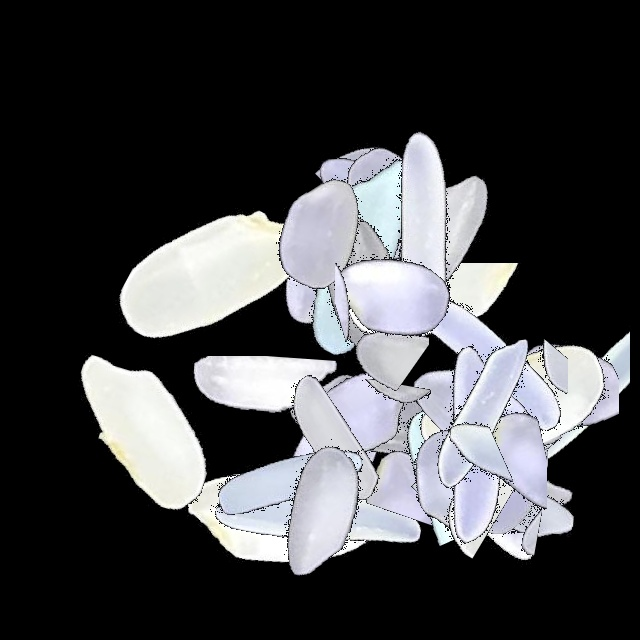Broken: (352, 328, 523, 578), (450, 273, 619, 523), (206, 356, 456, 525), (472, 238, 630, 488), (390, 419, 640, 567), (328, 263, 578, 410), (137, 356, 387, 502), (407, 347, 547, 597), (316, 322, 566, 459), (261, 82, 511, 216), (363, 328, 497, 578), (340, 418, 590, 551), (302, 199, 429, 449), (409, 324, 528, 574), (335, 171, 436, 421), (472, 257, 568, 507), (450, 364, 545, 614), (420, 370, 515, 620), (536, 390, 624, 640), (239, 379, 489, 464)
Full: (217, 132, 467, 382), (159, 390, 409, 640), (195, 390, 445, 640), (200, 140, 450, 390), (252, 80, 502, 330), (255, 126, 505, 376), (261, 74, 511, 324), (339, 359, 589, 609), (214, 330, 464, 580), (236, 128, 486, 378), (390, 371, 640, 621), (242, 161, 492, 411), (235, 295, 485, 545), (381, 313, 631, 563), (84, 151, 334, 401), (379, 354, 629, 604), (390, 282, 640, 532), (364, 240, 614, 490), (13, 310, 263, 560), (348, 282, 598, 532), (208, 315, 458, 565), (318, 110, 568, 360), (330, 356, 580, 606), (197, 112, 447, 362), (293, 108, 543, 358), (348, 318, 598, 568), (166, 355, 416, 605), (267, 167, 517, 417), (360, 289, 610, 539), (193, 382, 443, 632)
